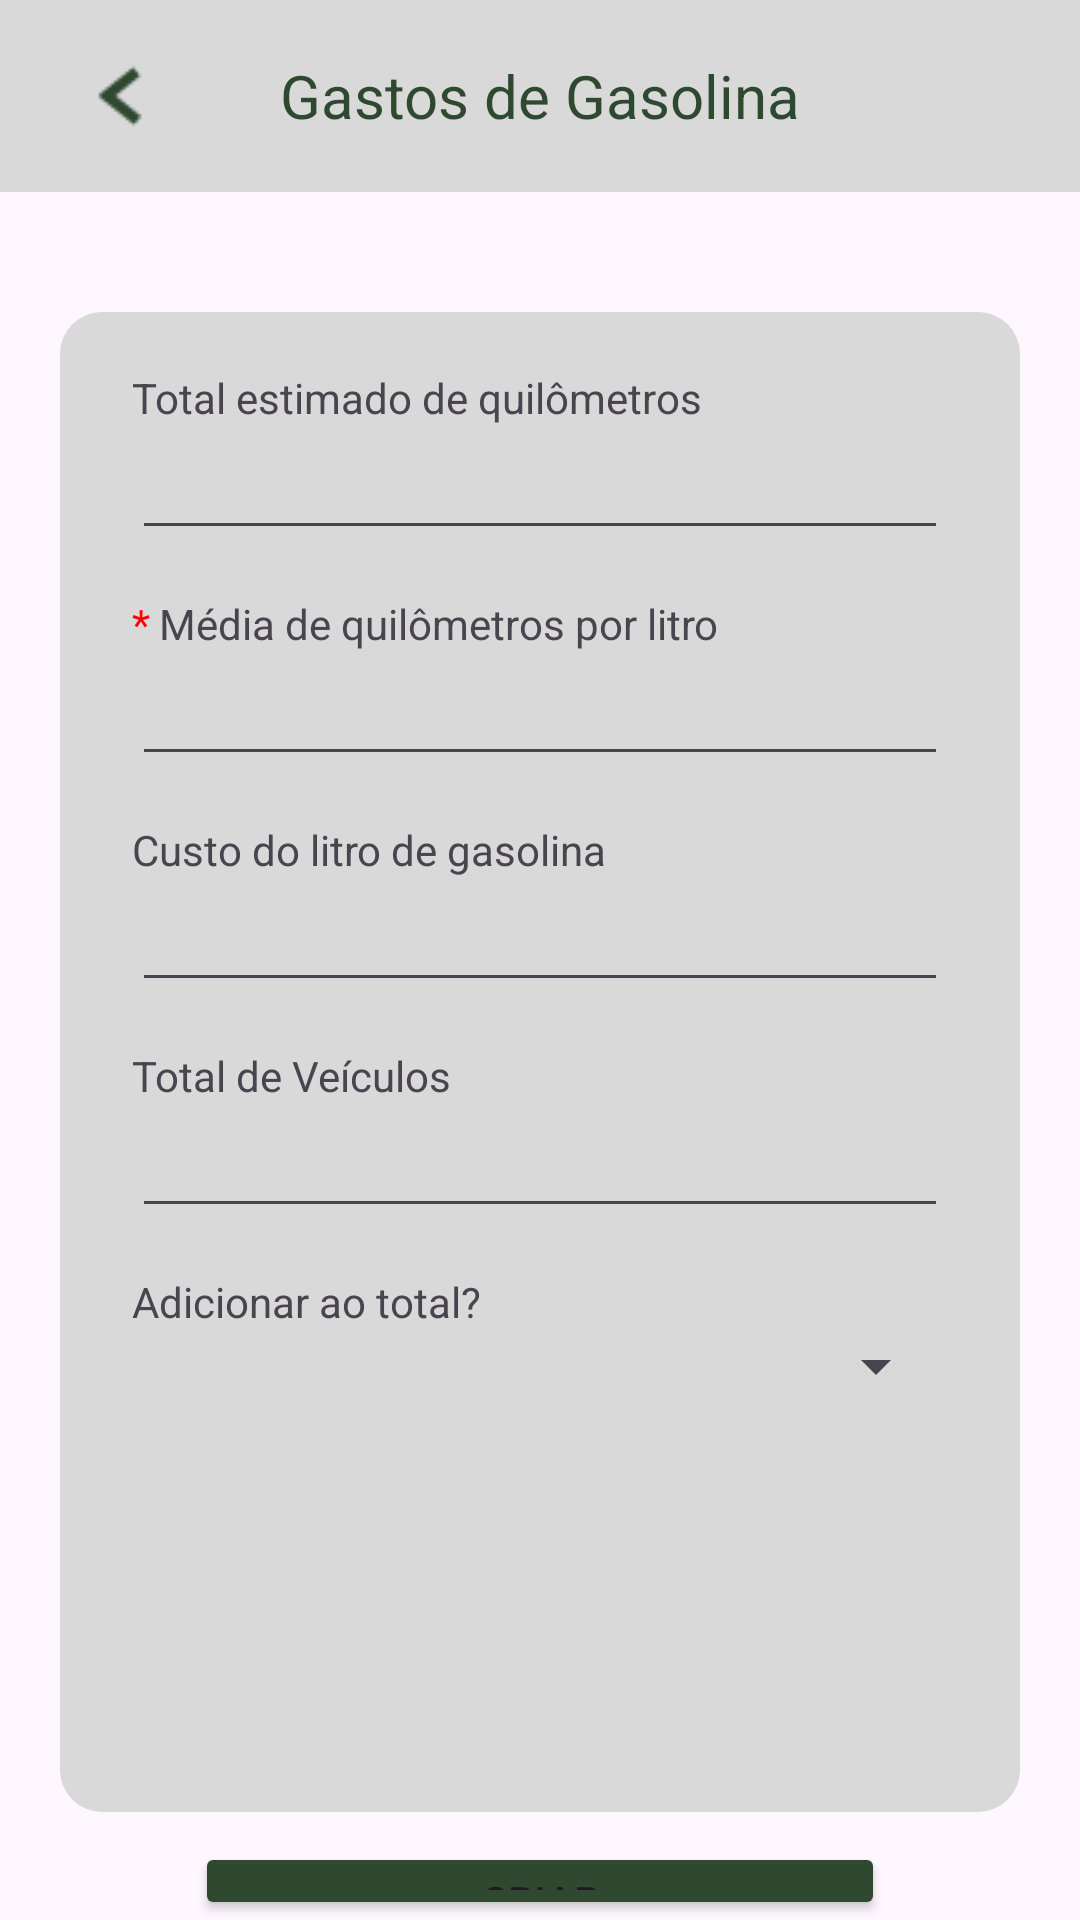

Screen size 1080×1920. Icon name, then its center in pixels as [x,y]:
Voltar: [120,96]
